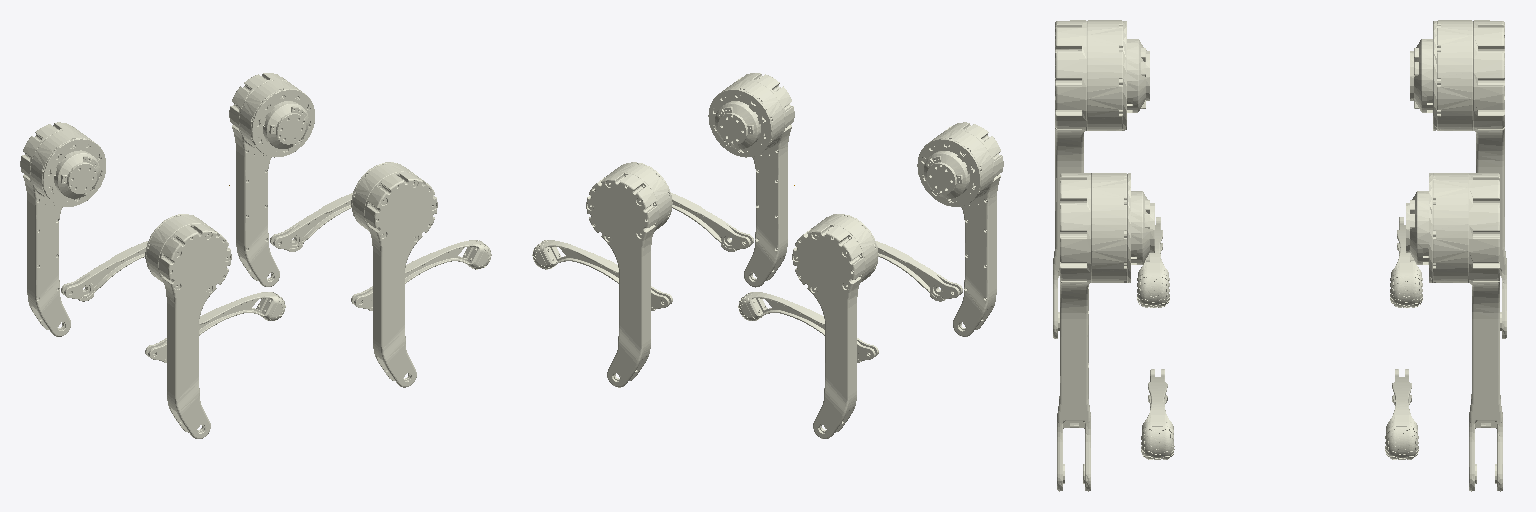
The robot description file, URDF, robot "sz_description":
<?xml version="1.0" ?>
<robot name="sz_description" xmlns:xacro="http://www.ros.org/wiki/xacro">
  <material name="black">
    <color rgba="0.0 0.0 0.0 1.0"/>
  </material>
  <material name="blue">
    <color rgba="0.0 0.0 0.8 1.0"/>
  </material>
  <material name="green">
    <color rgba="0.0 0.8 0.0 1.0"/>
  </material>
  <material name="grey">
    <color rgba="0.2 0.2 0.2 1.0"/>
  </material>
  <material name="silver">
    <color rgba="0.913725490196 0.913725490196 0.847058823529 1.0"/>
  </material>
  <material name="orange">
    <!-- <color rgba="1.0 0.423529411765 0.0392156862745 1.0"/> -->
    <color rgba="0.12 0.15 0.2 1.0"/>
  </material>
  <material name="brown">
    <color rgba="0.870588235294 0.811764705882 0.764705882353 1.0"/>
  </material>
  <material name="red">
    <color rgba="0.8 0.0 0.0 1.0"/>
  </material>
  <material name="white">
    <color rgba="1.0 1.0 1.0 1.0"/>
  </material>
  <link name="base">
    <visual>
      <origin rpy="0 0 0" xyz="0 0 0"/>
      <geometry>
        <box size="0.001 0.001 0.001"/>
      </geometry>
    </visual>
  </link>
  <joint name="floating_base" type="fixed">
    <origin rpy="0 0 0" xyz="0 0 0"/>
    <parent link="base"/>
    <child link="trunk"/>
  </joint>
  <link name="trunk">
    <visual>
      <origin rpy="0 0 0" xyz="0 0 0"/>
      <geometry>
        <mesh filename="../meshes/trunk.dae" scale="1 1 1"/>
      </geometry>
      <material name="silver"/>
    </visual>
    <collision>
      <origin rpy="0 0 0" xyz="0 0 0"/>
      <geometry>
        <box size="0.286 0.206 0.120"/>
      </geometry>
    </collision>
    <inertial>
      <!-- <origin rpy="0 0 0" xyz="0.012731 0.002186 0.000515"/> -->
      <origin rpy="0 0 0" xyz="0.038238 -0.0086038 -0.0003117"/>
      <mass value="5.848"/>
      <inertia ixx="0.01683993" ixy="8.3902e-05" ixz="0.000597679" iyy="0.056579028" iyz="2.5134e-05" izz="0.064713601"/>
      <!-- <inertia ixx="0.01883039838" ixy="-0.00025723812" ixz="-0.00032987281" iyy="0.0705707128" iyz="-0.00004689787" izz="0.0802532948" /> -->
    </inertial>
  </link>
  <joint name="imu_joint" type="fixed">
    <parent link="trunk"/>
    <child link="imu_link"/>
    <origin rpy="0 0 0" xyz="0 0 0"/>
  </joint>
  <link name="imu_link">
    <inertial>
      <mass value="0.001"/>
      <origin rpy="0 0 0" xyz="0 0 0"/>
      <!-- <inertia ixx="0.0001" ixy="0" ixz="0" iyy="0.0001" iyz="0" izz="0.0001"/> -->
      <inertia ixx="0.000001" ixy="0" ixz="0" iyy="0.000001" iyz="0" izz="0.000001"/>
    </inertial>
    <visual>
      <origin rpy="0 0 0" xyz="0 0 0"/>
      <geometry>
        <box size="0.001 0.001 0.001"/>
      </geometry>
      <material name="silver"/>
    </visual>
    <!-- <collision>
      <origin rpy="0 0 0" xyz="0 0 0"/>
      <geometry>
        <box size=".001 .001 .001"/>
      </geometry>
    </collision> -->
  </link>
  <joint name="FR_hip_joint" type="revolute">
    <origin rpy="0 0 0" xyz="0.1995 -0.05001 0"/>
    <parent link="trunk"/>
    <child link="FR_hip"/>
    <axis xyz="1 0 0"/>
    <dynamics damping="0" friction="0"/>
    <!-- <limit effort="20" lower="-0.802851455917" upper="0.802851455917" velocity="52.4"/> -->
    <limit effort="18" lower="-0.94" upper="0.94" velocity="40"/>
  </joint>
  <link name="FR_hip">
    <visual>
      <!-- <origin rpy="3.14159265359 0 0" xyz="0 0 0"/> -->
      <origin xyz="0 0 0" rpy="0 0 0" />
      <geometry>
        <mesh filename="../meshes/FR_hip.dae" scale="1 1 1"/>
      </geometry>
      <material name="silver"/>
    </visual>
    <!-- <collision>
      <origin rpy="1.57079632679 0 0" xyz="0 0 0"/>
      <geometry>
        <cylinder length="0.04" radius="0.046"/>
      </geometry>
    </collision> -->
    <inertial>
      <origin rpy="0 0 0" xyz="-0.0037743 0.0038894 7.8535E-05"/>
      <mass value="0.68"/>
      <inertia ixx="0.000469246" ixy="9.409e-06" ixz="-3.42e-07" iyy="0.00080749" iyz="4.66e-07" izz="0.000552929"/>
      <!-- <inertia ixx="4.602822857142857e-4" ixy="9.953142857142857e-6" ixz="-3.394285714285714e-7" iyy="7.898548571428571e-4" iyz="6.228571428571429e-7" izz="5.576217142857143e-4" /> -->
    </inertial>
  </link>
  <joint name="FR_hip_fixed" type="fixed">
    <origin rpy="0 0 0" xyz="0 -0.081 0"/>
    <parent link="FR_hip"/>
    <child link="FR_thigh_shoulder"/>
  </joint>
  <!-- this link is only for collision -->
  <link name="FR_thigh_shoulder">
    <!-- <collision>
      <origin rpy="1.57079632679 0 0" xyz="0 0 0"/>
      <geometry>
        <cylinder length="0.032" radius="0.041"/>
      </geometry>
    </collision> -->
  </link>
  <joint name="FR_thigh_joint" type="revolute">
    <origin rpy="0 0 0" xyz="0 -0.08505 0"/>
    <parent link="FR_hip"/>
    <child link="FR_thigh"/>
    <axis xyz="0 1 0"/>
    <dynamics damping="0" friction="0"/>
    <!-- <limit effort="55" lower="-1.0471975512" upper="4.18879020479" velocity="28.6"/> -->
    <!-- <limit effort="18" lower="-2.35" upper="1.81" velocity="40"/> -->
    <limit effort="18" lower="-0.409203673" upper="3.550796326" velocity="40"/>
  </joint>
  <link name="FR_thigh">
    <visual>
      <origin rpy="0 0 0" xyz="0 0 0"/>
      <geometry>
        <mesh filename="../meshes/thigh.dae" scale="1 1 1"/>
      </geometry>
      <material name="silver"/>
    </visual>
    <!-- <collision>
      <origin rpy="0 1.57079632679 0" xyz="0 0 -0.1"/>
      <geometry>
        <box size="0.2 0.0245 0.034"/>
      </geometry>
    </collision> -->
    <collision>
      <origin xyz="0 0 -0.1" rpy="0 0 0" />
      <geometry>
        <box size="0.03 0.03 0.2"/>
      </geometry>
    </collision>
    <inertial>
      <origin rpy="0 0 0" xyz="-0.0025418 0.024397 -0.017202"/>
      <mass value="1.009"/>
      <inertia ixx="0.005529065" ixy="-4.825e-06" ixz="0.000343869" iyy="0.005139339" iyz="-2.2448e-05" izz="0.001367788"/>
      <!-- <inertia ixx="0.0059674237094595" ixy="2.463414414414414e-6" ixz="3.941565326576577e-4" iyy="0.0056818460304054" iyz="3.201302477477477e-5" izz="0.0012614772522523" /> -->
    </inertial>
  </link>
  <joint name="FR_calf_joint" type="revolute">
    <origin rpy="0 0 0" xyz="0 -0.0001 -0.2"/>
    <parent link="FR_thigh"/>
    <child link="FR_calf"/>
    <axis xyz="0 1 0"/>
    <dynamics damping="0" friction="0"/>
    <!-- <limit effort="55" lower="-2.69653369433" upper="-0.916297857297" velocity="28.6"/> -->
    <limit effort="27" lower="-2.6" upper="-0.885" velocity="26.6"/>
  </joint>
  <link name="FR_calf">
    <visual>
      <origin rpy="0 0 0" xyz="0 0 0"/>
      <geometry>
        <mesh filename="../meshes/calf.dae" scale="1 1 1"/>
      </geometry>
      <material name="silver"/>
    </visual>
    <!-- <collision>
      <origin rpy="0 1.57079632679 0" xyz="0 0 -0.1"/>
      <geometry>
        <box size="0.2 0.016 0.016"/>
      </geometry>
    </collision> -->
    <collision>
      <origin xyz="0 0 -0.1" rpy="0 0 0" />
      <geometry>
        <box size="0.02 0.02 0.2"/>
        <!-- <mesh filename="../meshes/calf.dae" /> -->
      </geometry>
    </collision>
    <inertial>
      <origin rpy="0 0 0" xyz="0.0052583 3.7921E-08 -0.11963"/>
      <mass value="0.224"/>
      <inertia ixx="0.002997972" ixy="0.0" ixz="-0.000141163" iyy="0.003014022" iyz="0.0" izz="3.2426e-05"/>
      <!-- <inertia ixx="0.0034783165033113" ixy="0.0" ixz="-2.095735099337748e-4" iyy="0.0035020471523179" iyz="0.0" izz="4.622113907284768e-5" /> -->
    </inertial>
  </link>
  <joint name="FR_foot_fixed" type="fixed" dont_collapse="true">
    <origin rpy="0 0 0" xyz="0 0 -0.2"/>
    <parent link="FR_calf"/>
    <child link="FR_foot"/>
  </joint>
  <link name="FR_foot">
    <visual>
      <origin rpy="0 0 0" xyz="0 0 0"/>
      <geometry>
        <sphere radius="0.01"/>
      </geometry>
      <material name="silver"/>
    </visual>
    <collision>
      <origin rpy="0 0 0" xyz="0 0 0"/>
      <geometry>
        <!-- <sphere radius="0.02"/> -->
        <sphere radius="0.025"/>
      </geometry>
    </collision>
    <inertial>
      <mass value="0.06"/>
      <!-- the same as a1 -->
      <inertia ixx="9.6e-06" ixy="0.0" ixz="0.0" iyy="9.6e-06" iyz="0.0" izz="9.6e-06"/>
    </inertial>
  </link>
  <joint name="FL_hip_joint" type="revolute">
    <origin rpy="0 0 0" xyz="0.1995 0.05001 0"/>
    <parent link="trunk"/>
    <child link="FL_hip"/>
    <axis xyz="1 0 0"/>
    <dynamics damping="0" friction="0"/>
    <!-- <limit effort="20" lower="-0.802851455917" upper="0.802851455917" velocity="52.4"/> -->
    <limit effort="18" lower="-0.94" upper="0.94" velocity="40"/>
  </joint>
  <link name="FL_hip">
    <visual>
      <!-- the same as a1 -->
      <origin rpy="0 0 0" xyz="0 0 0"/>
      <geometry>
        <mesh filename="../meshes/FL_hip.dae" scale="1 1 1"/>
      </geometry>
      <material name="silver"/>
    </visual>
    <!-- <collision> 
      <origin rpy="1.57079632679 0 0" xyz="0 0 0"/>
      <geometry>
        <cylinder length="0.04" radius="0.046"/>
      </geometry>
    </collision> -->
    <inertial>
      <origin rpy="0 0 0" xyz="-0.0037743 0.0038894 7.8535E-05"/>
      <mass value="0.68"/>
      <inertia ixx="0.000469246" ixy="-9.409e-06" ixz="-3.42e-07" iyy="0.00080749" iyz="-4.66e-07" izz="0.000552929"/>
      <!-- <inertia ixx="4.602822857142857e-4" ixy="-9.953142857142857e-6" ixz="-3.394285714285714e-7" iyy="7.898548571428571e-4" iyz="-6.228571428571429e-7" izz="5.576217142857143e-4" /> -->
    </inertial>
  </link>
  <joint name="FL_hip_fixed" type="fixed">
    <origin rpy="0 0 0" xyz="0 0.081 0"/>
    <parent link="FL_hip"/>
    <child link="FL_thigh_shoulder"/>
  </joint>
  <!-- this link is only for collision -->
  <link name="FL_thigh_shoulder">
    <!-- <collision>
      <origin rpy="1.57079632679 0 0" xyz="0 0 0"/>
      <geometry>
        <cylinder length="0.032" radius="0.041"/>
      </geometry>
    </collision> -->
  </link>
  <joint name="FL_thigh_joint" type="revolute">
    <origin rpy="0 0 0" xyz="0 0.08505 0"/>
    <parent link="FL_hip"/>
    <child link="FL_thigh"/>
    <axis xyz="0 1 0"/>
    <dynamics damping="0" friction="0"/>
    <!-- <limit effort="55" lower="-1.0471975512" upper="4.18879020479" velocity="28.6"/> -->
    <!-- <limit effort="18" lower="-2.35" upper="1.81" velocity="40"/> -->
    <limit effort="18" lower="-0.409203673" upper="3.550796326" velocity="40"/>
  </joint>
  <link name="FL_thigh">
    <visual>
      <origin rpy="0 0 0" xyz="0 0 0"/>
      <geometry>
        <mesh filename="../meshes/thigh_mirror.dae" scale="1 1 1"/>
      </geometry>
      <material name="silver"/>
    </visual>
    <!-- <collision>
      <origin rpy="0 1.57079632679 0" xyz="0 0 -0.1"/>
      <geometry>
        <box size="0.2 0.0245 0.034"/>
      </geometry>
    </collision> -->
    <collision>
      <origin xyz="0 0 -0.1" rpy="0 0 0" />
      <geometry>
        <box size="0.03 0.03 0.2"/>
      </geometry>
    </collision>
    <inertial>
      <origin rpy="0 0 0" xyz="-0.002926 -0.024388 -0.017656"/>
      <mass value="1.009"/>
      <inertia ixx="0.005529065" ixy="4.825e-06" ixz="0.000343869" iyy="0.005139339" iyz="2.2448e-05" izz="0.001367788"/>
      <!-- <inertia ixx="0.0059674237094595" ixy="-2.463414414414414e-6" ixz="3.941565326576577e-4" iyy="0.0056818460304054" iyz="-3.201302477477477e-5" izz="0.0012614772522523" /> -->
    </inertial>
  </link>
  <joint name="FL_calf_joint" type="revolute">
    <origin rpy="0 0 0" xyz="0 -0.0001 -0.2"/>
    <parent link="FL_thigh"/>
    <child link="FL_calf"/>
    <axis xyz="0 1 0"/>
    <dynamics damping="0" friction="0"/>
    <!-- <limit effort="55" lower="-2.69653369433" upper="-0.916297857297" velocity="28.6"/> -->
    <limit effort="27" lower="-2.6" upper="-0.885" velocity="26.6"/>
  </joint>
  <link name="FL_calf">
    <visual>
      <origin rpy="0 0 0" xyz="0 0 0"/>
      <geometry>
        <mesh filename="../meshes/calf.dae" scale="1 1 1"/>
      </geometry>
      <material name="silver"/>
    </visual>
    <!-- <collision>
      <origin rpy="0 1.57079632679 0" xyz="0 0 -0.1"/>
      <geometry>
        <box size="0.2 0.016 0.016"/>
      </geometry>
    </collision> -->
    <collision>
      <origin xyz="0 0 -0.1" rpy="0 0 0" />
      <geometry>
        <box size="0.02 0.02 0.2"/>
      </geometry>
    </collision>
    <inertial>
      <origin rpy="0 0 0" xyz="0.0052583 3.7881E-08 -0.11963"/>
      <mass value="0.224"/>
      <inertia ixx="0.002997972" ixy="0.0" ixz="-0.000141163" iyy="0.003014022" iyz="0.0" izz="3.2426e-05"/>
      <!-- <inertia ixx="0.0034783165033113" ixy="0.0" ixz="-2.095735099337748e-4" iyy="0.0035020471523179" iyz="0.0" izz="4.622113907284768e-5" /> -->
    </inertial>
  </link>
  <joint name="FL_foot_fixed" type="fixed" dont_collapse="true">
    <origin rpy="0 0 0" xyz="0 0 -0.2"/>
    <parent link="FL_calf"/>
    <child link="FL_foot"/>
  </joint>
  <link name="FL_foot">
    <visual>
      <origin rpy="0 0 0" xyz="0 0 0"/>
      <geometry>
        <sphere radius="0.01"/>
      </geometry>
      <material name="silver"/>
    </visual>
    <collision>
      <origin rpy="0 0 0" xyz="0 0 0"/>
      <geometry>
        <!-- <sphere radius="0.02"/> -->
        <sphere radius="0.025"/>
      </geometry>
    </collision>
    <inertial>
      <mass value="0.06"/>
      <!-- the same as a1 -->
      <inertia ixx="9.6e-06" ixy="0.0" ixz="0.0" iyy="9.6e-06" iyz="0.0" izz="9.6e-06"/>
    </inertial>
  </link>
  <joint name="RR_hip_joint" type="revolute">
    <origin rpy="0 0 0" xyz="-0.1995 -0.05001 0"/>
    <parent link="trunk"/>
    <child link="RR_hip"/>
    <axis xyz="1 0 0"/>
    <dynamics damping="0" friction="0"/>
    <!-- <limit effort="20" lower="-0.802851455917" upper="0.802851455917" velocity="52.4"/> -->
    <limit effort="18" lower="-0.94" upper="0.94" velocity="40"/>
  </joint>
  <link name="RR_hip">
    <visual>
      <!-- <origin rpy="3.14159265359 3.14159265359 0" xyz="0 0 0"/> -->
      <origin rpy="0 0 0" xyz="0 0 0"/>
      <geometry>
        <mesh filename="../meshes/RR_hip.dae" scale="1 1 1"/>
      </geometry>
      <material name="silver"/>
    </visual>
    <!-- <collision>
      <origin rpy="1.57079632679 0 0" xyz="0 0 0"/>
      <geometry>
        <cylinder length="0.04" radius="0.046"/>
      </geometry>
    </collision> -->
    <inertial>
      <origin rpy="0 0 0" xyz="0.0037743 0.0038894 -7.8535E-05"/>
      <mass value="0.68"/>
      <inertia ixx="0.000469246" ixy="-9.409e-06" ixz="3.42e-07" iyy="0.00080749" iyz="4.66e-07" izz="0.000552929"/>
      <!-- <inertia ixx="4.602822857142857e-4" ixy="-9.953142857142857e-6" ixz="3.394285714285714e-7" iyy="7.898548571428571e-4" iyz="6.228571428571429e-7" izz="5.576217142857143e-4" /> -->
    </inertial>
  </link>
  <joint name="RR_hip_fixed" type="fixed">
    <origin rpy="0 0 0" xyz="0 -0.081 0"/>
    <parent link="RR_hip"/>
    <child link="RR_thigh_shoulder"/>
  </joint>
  <!-- this link is only for collision -->
  <link name="RR_thigh_shoulder">
    <!-- <collision>
      <origin rpy="1.57079632679 0 0" xyz="0 0 0"/>
      <geometry>
        <cylinder length="0.032" radius="0.041"/>
      </geometry>
    </collision> -->
  </link>
  <joint name="RR_thigh_joint" type="revolute">
    <origin rpy="0 0 0" xyz="0 -0.08985 0"/>
    <parent link="RR_hip"/>
    <child link="RR_thigh"/>
    <axis xyz="0 1 0"/>
    <dynamics damping="0" friction="0"/>
    <!-- <limit effort="55" lower="-1.0471975512" upper="4.18879020479" velocity="28.6"/> -->
    <!-- <limit effort="18" lower="-1.46" upper="1.93" velocity="40"/> -->
    <limit effort="18" lower="-0.409203673" upper="3.550796326" velocity="40"/>
  </joint>
  <link name="RR_thigh">
    <visual>
      <origin rpy="0 0 0" xyz="0 0 0"/>
      <geometry>
        <mesh filename="../meshes/thigh.dae" scale="1 1 1"/>
      </geometry>
      <material name="silver"/>
    </visual>
    <!-- <collision>
      <origin rpy="0 1.57079632679 0" xyz="0 0 -0.1"/>
      <geometry>
        <box size="0.2 0.0245 0.034"/>
      </geometry>
    </collision> -->
    <collision>
      <origin xyz="0 0 -0.1" rpy="0 0 0" />
      <geometry>
        <box size="0.03 0.03 0.2"/>
      </geometry>
    </collision>
    <inertial>
      <origin rpy="0 0 0" xyz="-0.0025418 0.024397 -0.017202"/>
      <mass value="1.009"/>
      <inertia ixx="0.005529065" ixy="-4.825e-06" ixz="0.000343869" iyy="0.005139339" iyz="-2.2448e-05" izz="0.001367788"/>
      <!-- <inertia ixx="0.0059674237094595" ixy="2.463414414414414e-6" ixz="3.941565326576577e-4" iyy="0.0056818460304054" iyz="3.201302477477477e-5" izz="0.0012614772522523" /> -->
    </inertial>
  </link>
  <joint name="RR_calf_joint" type="revolute">
    <origin rpy="0 0 0" xyz="0 -0.0001 -0.2"/>
    <parent link="RR_thigh"/>
    <child link="RR_calf"/>
    <axis xyz="0 1 0"/>
    <dynamics damping="0" friction="0"/>
    <!-- <limit effort="55" lower="-2.69653369433" upper="-0.916297857297" velocity="28.6"/> -->
    <limit effort="27" lower="-2.6" upper="-0.885" velocity="26.6"/>
  </joint>
  <link name="RR_calf">
    <visual>
      <origin rpy="0 0 0" xyz="0 0 0"/>
      <geometry>
        <mesh filename="../meshes/calf.dae" scale="1 1 1"/>
      </geometry>
      <material name="silver"/>
    </visual>
    <!-- <collision>
      <origin rpy="0 1.57079632679 0" xyz="0 0 -0.1"/>
      <geometry>
        <box size="0.2 0.016 0.016"/>
      </geometry>
    </collision> -->
    <collision>
      <origin xyz="0 0 -0.1" rpy="0 0 0" />
      <geometry>
        <box size="0.02 0.02 0.2"/>
      </geometry>
    </collision>
    <inertial>
      <origin rpy="0 0 0" xyz="0.0052583 4.9987E-08 -0.11963"/>
      <mass value="0.224"/>
      <inertia ixx="0.002997972" ixy="0.0" ixz="-0.000141163" iyy="0.003014022" iyz="0.0" izz="3.2426e-05"/>
      <!-- <inertia ixx="0.0034783165033113" ixy="0.0" ixz="-2.095735099337748e-4" iyy="0.0035020471523179" iyz="0.0" izz="4.622113907284768e-5" /> -->
    </inertial>
  </link>
  <joint name="RR_foot_fixed" type="fixed" dont_collapse="true">
    <origin rpy="0 0 0" xyz="0 0 -0.2"/>
    <parent link="RR_calf"/>
    <child link="RR_foot"/>
  </joint>
  <link name="RR_foot">
    <visual>
      <origin rpy="0 0 0" xyz="0 0 0"/>
      <geometry>
        <sphere radius="0.01"/>
      </geometry>
      <material name="silver"/>
    </visual>
    <collision>
      <origin rpy="0 0 0" xyz="0 0 0"/>
      <geometry>
        <!-- <sphere radius="0.02"/> -->
        <sphere radius="0.025"/>
      </geometry>
    </collision>
    <inertial>
      <mass value="0.06"/>
      <!-- the same as a1 -->
      <inertia ixx="9.6e-06" ixy="0.0" ixz="0.0" iyy="9.6e-06" iyz="0.0" izz="9.6e-06"/>
    </inertial>
  </link>
  <joint name="RL_hip_joint" type="revolute">
    <origin rpy="0 0 0" xyz="-0.1995 0.04999 0"/>
    <parent link="trunk"/>
    <child link="RL_hip"/>
    <axis xyz="1 0 0"/>
    <dynamics damping="0" friction="0"/>
    <!-- <limit effort="20" lower="-0.802851455917" upper="0.802851455917" velocity="52.4"/> -->
    <limit effort="18" lower="-0.94" upper="0.94" velocity="40"/>
  </joint>
  <link name="RL_hip">
    <visual>
      <!-- <origin rpy="0 3.14159265359 0" xyz="0 0 0"/> -->
      <origin xyz="0 0 0" rpy="0 0 0" />
      <geometry>
        <mesh filename="../meshes/RL_hip.dae" scale="1 1 1"/>
      </geometry>
      <material name="silver"/>
    </visual>
    <!-- <collision>
      <origin rpy="1.57079632679 0 0" xyz="0 0 0"/>
      <geometry>
        <cylinder length="0.04" radius="0.046"/>
      </geometry>
    </collision> -->
    <inertial>
      <origin rpy="0 0 0" xyz="0.0037743 0.0038894 7.8535E-05"/>
      <mass value="0.68"/>
      <inertia ixx="0.000469246" ixy="9.409e-06" ixz="3.42e-07" iyy="0.00080749" iyz="-4.66e-07" izz="0.000552929"/>
      <!-- <inertia ixx="4.602822857142857e-4" ixy="9.953142857142857e-6" ixz="3.394285714285714e-7" iyy="7.898548571428571e-4" iyz="-6.228571428571429e-7" izz="5.576217142857143e-4" /> -->
    </inertial>
  </link>
  <joint name="RL_hip_fixed" type="fixed">
    <origin rpy="0 0 0" xyz="0 0.081 0"/>
    <parent link="RL_hip"/>
    <child link="RL_thigh_shoulder"/>
  </joint>
  <!-- this link is only for collision -->
  <link name="RL_thigh_shoulder">
    <!-- <collision>
      <origin rpy="1.57079632679 0 0" xyz="0 0 0"/>
      <geometry>
        <cylinder length="0.032" radius="0.041"/>
      </geometry>
    </collision> -->
  </link>
  <joint name="RL_thigh_joint" type="revolute">
    <origin rpy="0 0 0" xyz="0 0.08985 0"/>
    <parent link="RL_hip"/>
    <child link="RL_thigh"/>
    <axis xyz="0 1 0"/>
    <dynamics damping="0" friction="0"/>
    <!-- <limit effort="55" lower="-1.0471975512" upper="4.18879020479" velocity="28.6"/> -->
    <!-- <limit effort="18" lower="-1.46" upper="1.93" velocity="40"/> -->
    <limit effort="18" lower="-0.409203673" upper="3.550796326" velocity="40"/>
  </joint>
  <link name="RL_thigh">
    <visual>
      <origin rpy="0 0 0" xyz="0 0 0"/>
      <geometry>
        <mesh filename="../meshes/thigh_mirror.dae" scale="1 1 1"/>
      </geometry>
      <material name="silver"/>
    </visual>
    <!-- <collision>
      <origin rpy="0 1.57079632679 0" xyz="0 0 -0.1"/>
      <geometry>
        <box size="0.2 0.0245 0.034"/>
      </geometry>
    </collision> -->
    <collision>
      <origin xyz="0 0 -0.1" rpy="0 0 0" />
      <geometry>
        <box size="0.03 0.03 0.2"/>
      </geometry>
    </collision>
    <inertial>
      <origin rpy="0 0 0" xyz="-0.002926 -0.024388 -0.017656"/>
      <mass value="1.009"/>
      <inertia ixx="0.005529065" ixy="4.825e-06" ixz="0.000343869" iyy="0.005139339" iyz="2.2448e-05" izz="0.001367788"/>
      <!-- <inertia ixx="0.0059674237094595" ixy="-2.463414414414414e-6" ixz="3.941565326576577e-4" iyy="0.0056818460304054" iyz="-3.201302477477477e-5" izz="0.0012614772522523" /> -->
    </inertial>
  </link>
  <joint name="RL_calf_joint" type="revolute">
    <origin rpy="0 0 0" xyz="0 0.0001 -0.2"/>
    <parent link="RL_thigh"/>
    <child link="RL_calf"/>
    <axis xyz="0 1 0"/>
    <dynamics damping="0" friction="0"/>
    <!-- <limit effort="55" lower="-2.69653369433" upper="-0.916297857297" velocity="28.6"/> -->
    <limit effort="27" lower="-2.6" upper="-0.885" velocity="26.6"/>
  </joint>
  <link name="RL_calf">
    <visual>
      <origin rpy="0 0 0" xyz="0 0 0"/>
      <geometry>
        <mesh filename="../meshes/calf.dae" scale="1 1 1"/>
      </geometry>
      <material name="silver"/>
    </visual>
    <!-- <collision>
      <origin rpy="0 1.57079632679 0" xyz="0 0 -0.1"/>
      <geometry>
        <box size="0.2 0.016 0.016"/>
      </geometry>
    </collision> -->
    <collision>
      <origin xyz="0 0 -0.1" rpy="0 0 0" />
      <geometry>
        <box size="0.02 0.02 0.2"/>
      </geometry>
    </collision>
    <inertial>
      <origin rpy="0 0 0" xyz="0.0052583 3.799E-08 -0.11963"/>
      <mass value="0.224"/>
      <inertia ixx="0.002997972" ixy="0.0" ixz="-0.000141163" iyy="0.003014022" iyz="0.0" izz="3.2426e-05"/>
      <!-- <inertia ixx="0.0034783165033113" ixy="0.0" ixz="-1.614571428571429e-4" iyy="0.0026824344538288" iyz="0.0" izz="3.540362837837838e-5" /> -->
    </inertial>
  </link>
  <joint name="RL_foot_fixed" type="fixed" dont_collapse="true">
    <origin rpy="0 0 0" xyz="0 0 -0.2"/>
    <parent link="RL_calf"/>
    <child link="RL_foot"/>
  </joint>
  <link name="RL_foot">
    <visual>
      <origin rpy="0 0 0" xyz="0 0 0"/>
      <geometry>
        <sphere radius="0.01"/>
      </geometry>
      <material name="silver"/>
    </visual>
    <collision>
      <origin rpy="0 0 0" xyz="0 0 0"/>
      <geometry>
        <sphere radius="0.02"/>
      </geometry>
    </collision>
    <inertial>
      <mass value="0.06"/>
      <!-- the same as a1 -->
      <inertia ixx="9.6e-06" ixy="0.0" ixz="0.0" iyy="9.6e-06" iyz="0.0" izz="9.6e-06"/>
    </inertial>
  </link>
</robot>

--- What the picture shows (computed from the rendered views, not written in the file) ---
Views: 3 orthographic renders of the robot side by side, from view 1: azimuth 30°, elevation 25°; view 2: azimuth 150°, elevation 25°; view 3: azimuth 270°, elevation 25°.
Robot: sz_description — 23 links, 22 joints (12 revolute, 10 fixed); root link base; default pose: all joints at 0 but 4 set to mid-range because 0 is outside their limits (FR_calf_joint = -1.74, FL_calf_joint = -1.74, RR_calf_joint = -1.74, RL_calf_joint = -1.74).
Visible links, largest first — view 1: FR_thigh, RR_thigh, RL_thigh, FL_thigh, RR_calf, FR_calf, RL_calf, FL_calf; view 2: FL_thigh, RL_thigh, RR_thigh, FR_thigh, FL_calf, RL_calf, RR_calf, FR_calf; view 3: FR_thigh, FL_thigh, RR_thigh, RL_thigh, FR_calf, FL_calf, RL_calf, RR_calf.
Boxes of the visible links, x1,y1,x2,y2 form: FR_thigh: (351,162,437,387); RR_thigh: (145,214,231,438); RL_thigh: (20,122,105,336); FL_thigh: (229,73,314,286); RR_calf: (145,292,285,362); FR_calf: (351,240,491,310); RL_calf: (61,241,147,301); FL_calf: (270,193,352,251); FL_thigh: (586,162,672,387); RL_thigh: (792,214,878,438); RR_thigh: (917,122,1003,336); FR_thigh: (708,73,794,287); FL_calf: (532,240,672,310); RL_calf: (738,292,878,362); RR_calf: (876,241,962,301); FR_calf: (671,193,753,251); FR_thigh: (1057,173,1154,491); FL_thigh: (1406,173,1502,491); RR_thigh: (1053,20,1149,338); RL_thigh: (1410,20,1506,338); FR_calf: (1141,369,1174,459); FL_calf: (1385,369,1418,459); RL_calf: (1390,217,1422,307); RR_calf: (1137,217,1169,307).
Size in the robot's own frame: 0.6801 by 0.5032 by 0.3803 metres.
Meshes: 8 distinct files referenced, 8 mesh visuals loaded (3 Collada DAE); not drawn: 5 (reference not matched to a file when rendering).
